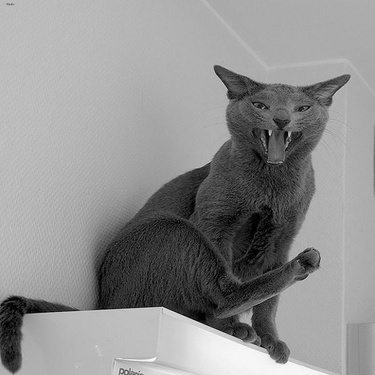cat: (10, 61, 355, 367)
